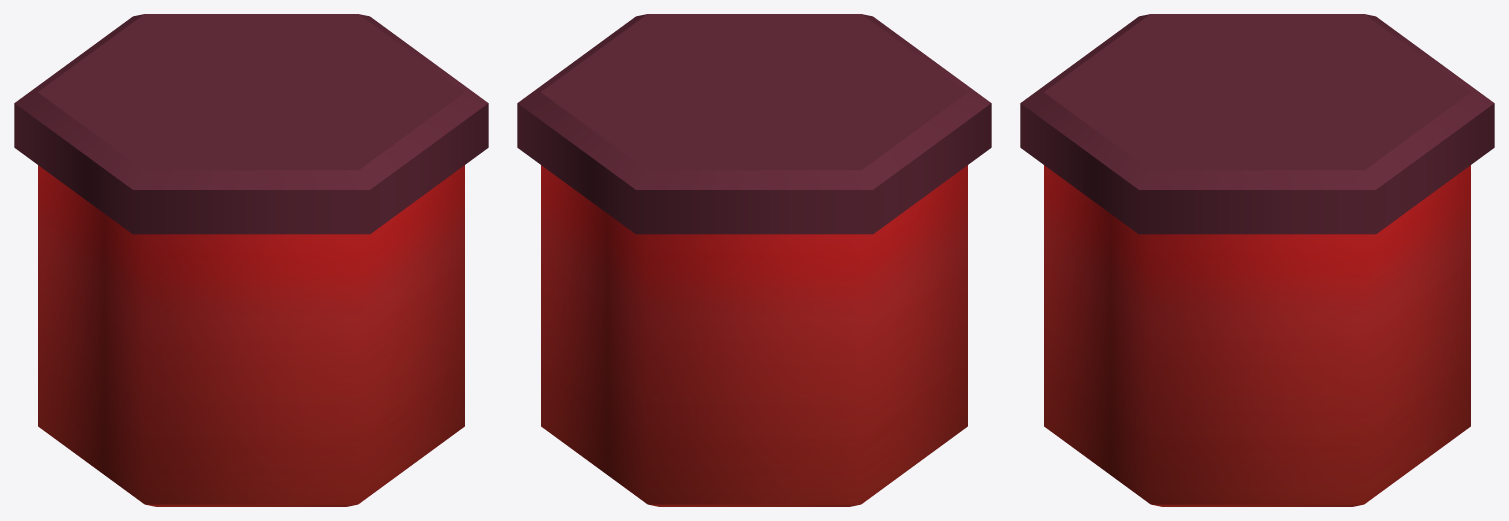
Rendered from Jar_2_B.fbx.
The picture shows the model from 3 angles, left to right: view 1: azimuth 30°, elevation 25°; view 2: azimuth 150°, elevation 25°; view 3: azimuth 270°, elevation 25°; orthographic projection.
Visible parts, largest first — view 1: Jar_2_B; view 2: Jar_2_B; view 3: Jar_2_B.
Boxes of the visible parts, x1=… form: Jar_2_B: x1=14, y1=14, x2=488, y2=506; Jar_2_B: x1=517, y1=14, x2=991, y2=506; Jar_2_B: x1=1020, y1=14, x2=1494, y2=506.
Bounding box in the file's own units: 17.99 × 16.69 × 20.77.
